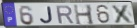6: (18, 5, 35, 26), (96, 4, 112, 24)
H: (73, 4, 96, 26)
J: (39, 6, 54, 25)
R: (55, 5, 76, 25)
X: (111, 4, 135, 24)
